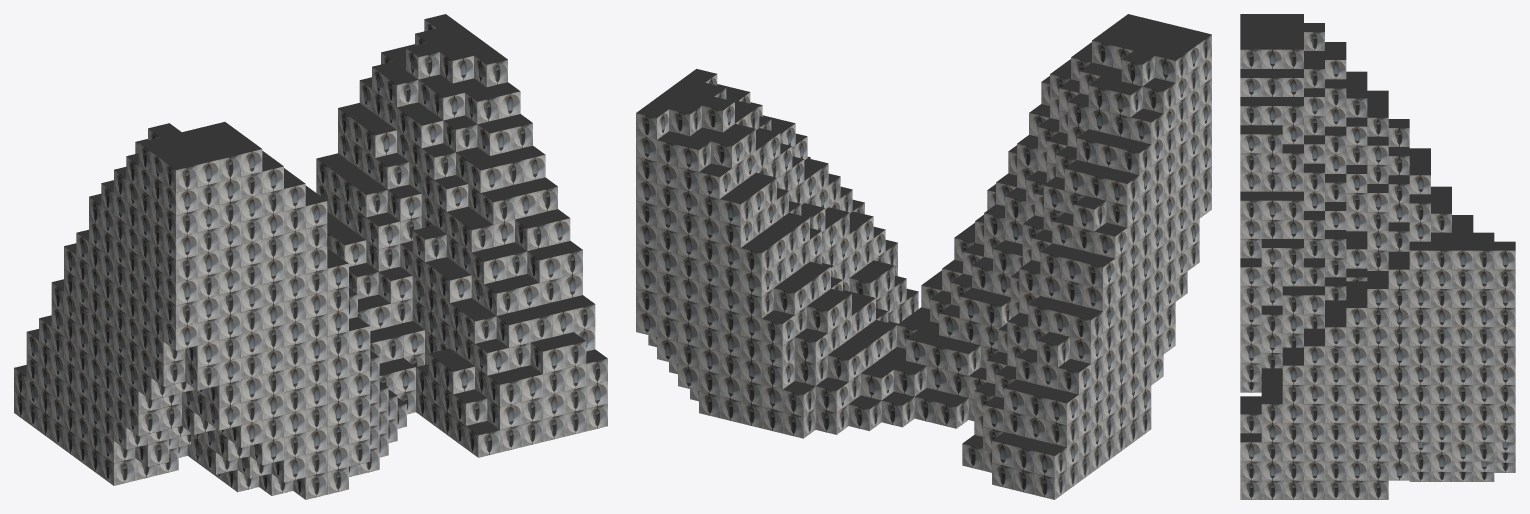
Rendered from archweekend_1_6.glb.
3 views of the same model, side by side, from view 1: azimuth 30°, elevation 25°; view 2: azimuth 150°, elevation 25°; view 3: azimuth 270°, elevation 25° (orthographic). The views are drawn at different scales.
Parts seen in each view (by area): view 1: house-5; view 2: house-5; view 3: house-5.
Part boxes in pixels (left/top/right/bottom): house-5: left=14, top=14, right=607, bottom=499; house-5: left=636, top=14, right=1211, bottom=499; house-5: left=1240, top=14, right=1515, bottom=499.
Size of the model in its own units: 60 by 48 by 39.
Materials: 3 (2 with a texture image).
